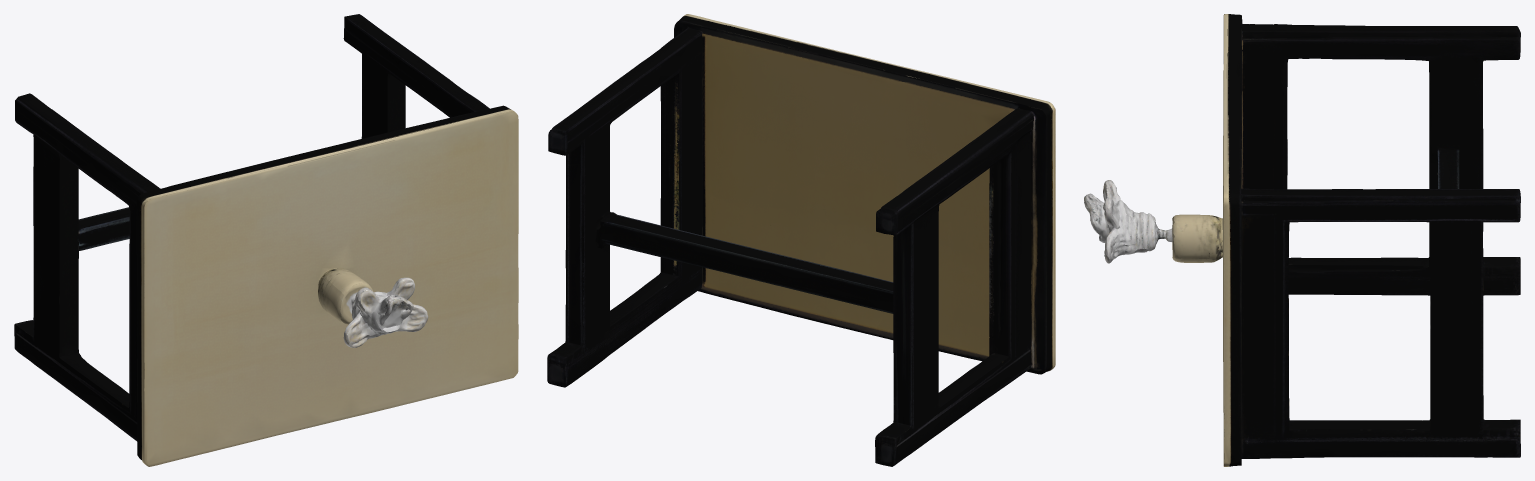
Rendered from out_sim.glb.
3 views of the same model, side by side, from view 1: azimuth 30°, elevation 25°; view 2: azimuth 150°, elevation 25°; view 3: azimuth 270°, elevation 25° (orthographic).
Parts seen in each view (by area): view 1: world; view 2: world; view 3: world.
Boxes of the visible parts, x1=… form: world: x1=14, y1=14, x2=518, y2=466; world: x1=547, y1=14, x2=1055, y2=466; world: x1=1084, y1=14, x2=1520, y2=466.
Size of the model in its own units: 1 by 0.6876 by 0.9929.
1 material, 1 textured.
